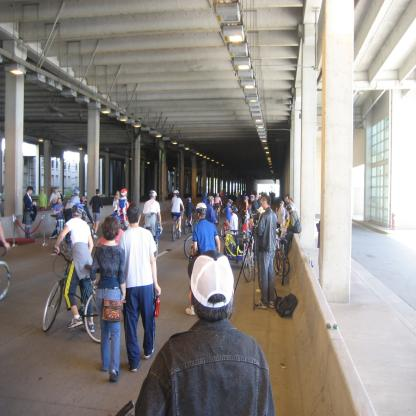Helmet: (184, 267, 233, 329), (71, 200, 86, 222), (196, 202, 207, 220), (285, 203, 293, 216), (72, 186, 82, 196), (208, 195, 216, 207), (230, 206, 238, 215), (172, 188, 180, 196), (120, 188, 127, 196), (150, 191, 158, 198), (227, 198, 233, 205), (256, 194, 260, 202), (215, 191, 221, 196), (244, 196, 249, 202), (279, 201, 285, 206), (187, 196, 191, 202), (250, 194, 256, 198)
